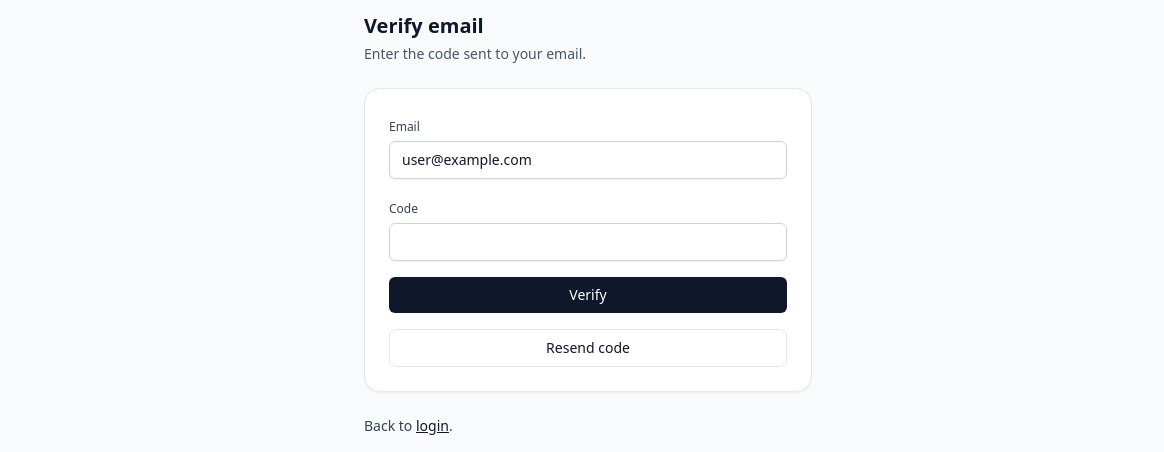
it: VerifyEmailPage › prefills email from query and navigates to /login after successful verification
Expected: the field labelled "Email" holds "user@example.com", [389, 141, 787, 179]
In the field labelled "Code": (588, 242) [389, 223, 787, 261], type "123456"
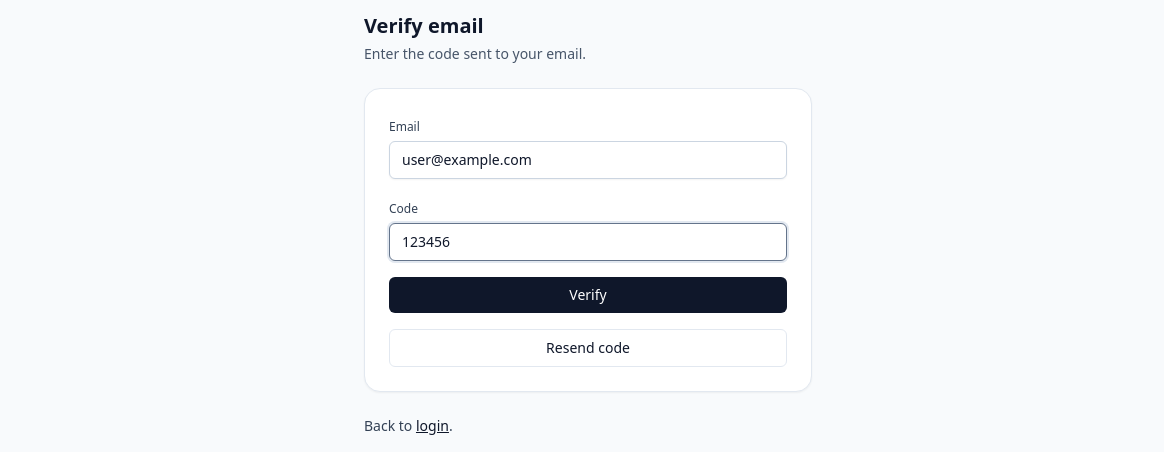
Click the button "Verify": (588, 295) [389, 277, 787, 313]
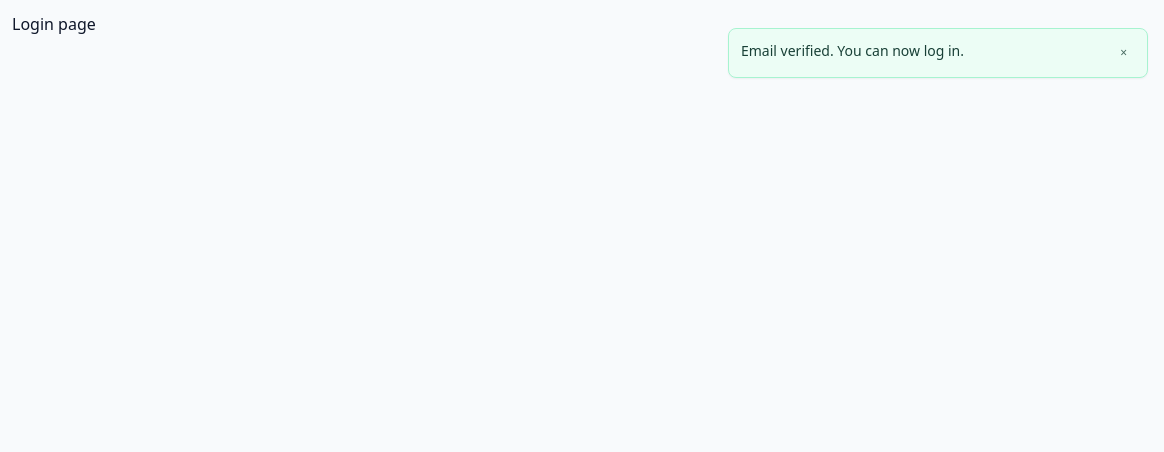
Expected: the text "Email verified. You can now log in." is shown, [741, 41, 964, 60]
Expected: the text "Login page" is shown, [12, 13, 96, 35]
